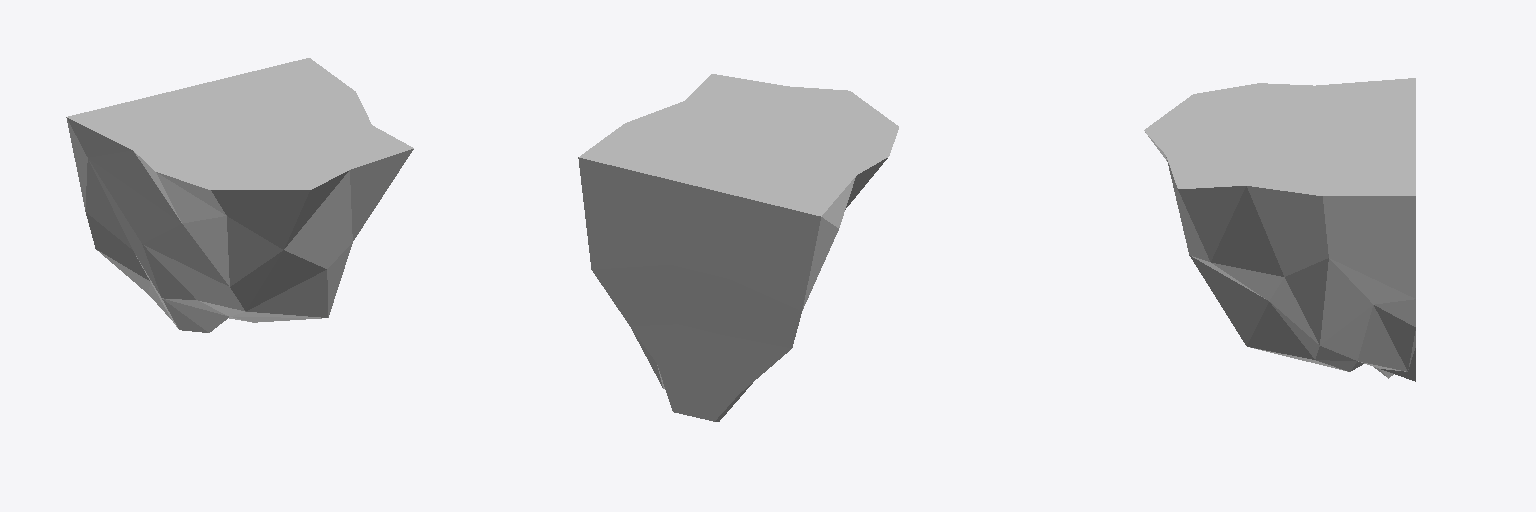
The model's file is RockPlatform7.obj.
The picture shows the model from 3 angles: view 1: azimuth 30°, elevation 25°; view 2: azimuth 150°, elevation 25°; view 3: azimuth 270°, elevation 25°; orthographic projection.
Visible parts, largest first — view 1: Cube.006; view 2: Cube.006; view 3: Cube.006.
Boxes of the visible parts, box(x1,y1,x2,y2) form: Cube.006: box(66, 58, 413, 332); Cube.006: box(578, 74, 898, 421); Cube.006: box(1144, 78, 1415, 381).
Size of the model in its own units: 2 by 1.87 by 1.94.